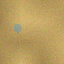person: (13, 23, 21, 32)
